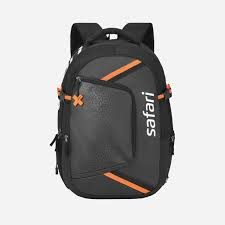backpack: (50, 21, 175, 199)
